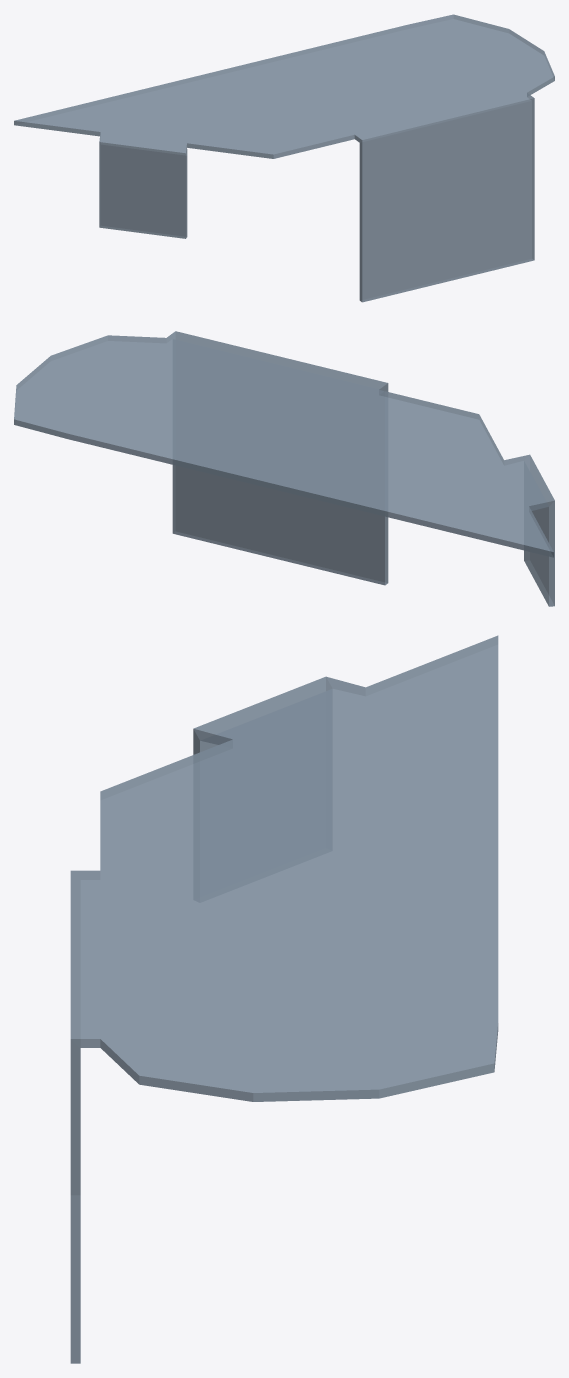
Rendered from water_top terrace.fbx.
3 views of the same model, one above another, from view 1: azimuth 30°, elevation 25°; view 2: azimuth 150°, elevation 25°; view 3: azimuth 270°, elevation 25° (orthographic). The views are drawn at different scales.
Visible parts, largest first — view 1: water_top terrace; view 2: water_top terrace; view 3: water_top terrace.
Part boxes in pixels (<box>): water_top terrace: <box>14,14,554,302</box>; water_top terrace: <box>14,331,554,606</box>; water_top terrace: <box>70,635,498,1363</box>.
Bounding box in the file's own units: 27.21 × 9 × 10.75.
